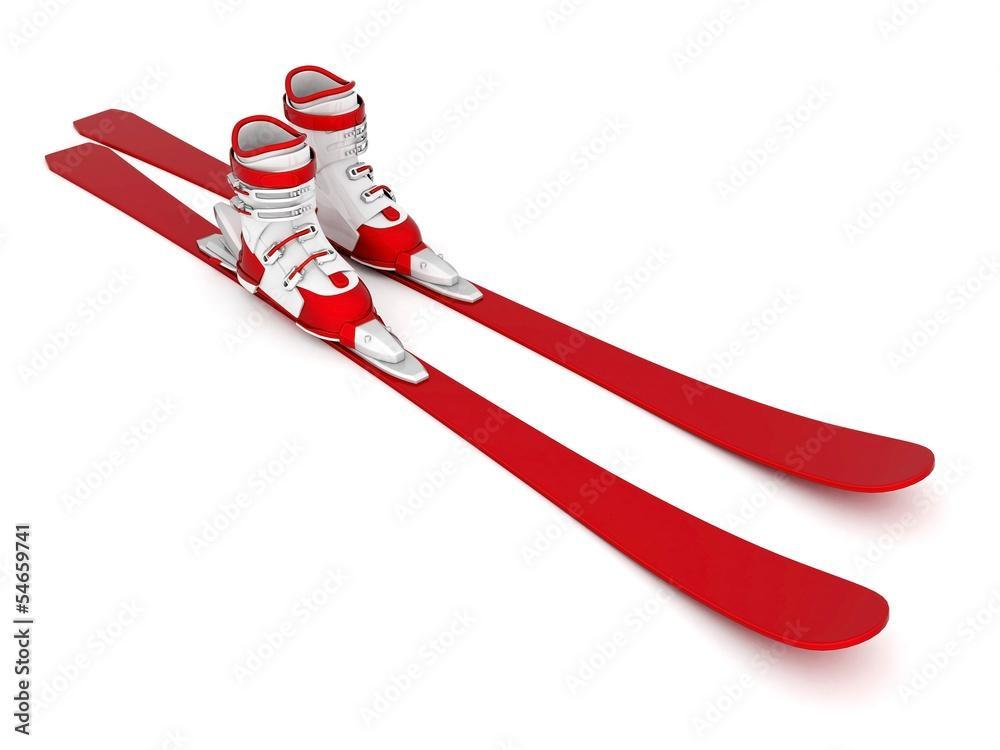Skis: (49, 67, 941, 663)
